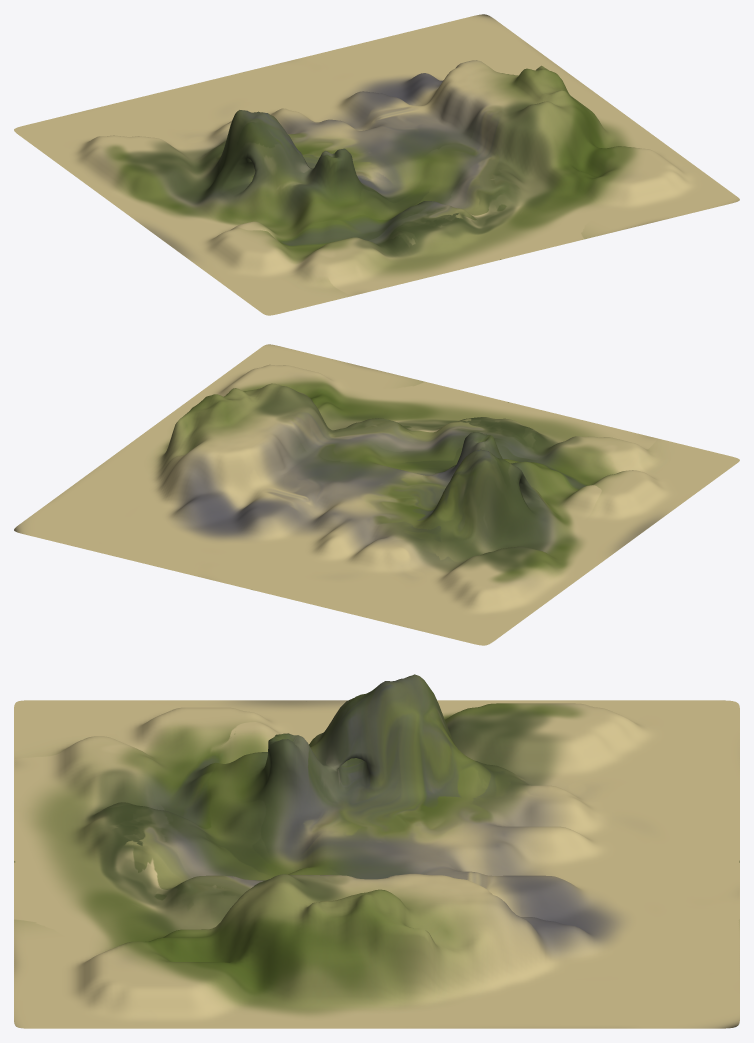
File: pelago.obj
3 renders of one model, top to bottom at view 1: azimuth 30°, elevation 25°; view 2: azimuth 150°, elevation 25°; view 3: azimuth 270°, elevation 25°, orthographic. The views are drawn at different scales.
Parts seen in each view (by area): view 1: pelago; view 2: pelago; view 3: pelago.
Boxes of the visible parts, x1,y1,x2,y2 form: pelago: (14, 14, 739, 315); pelago: (14, 344, 739, 645); pelago: (14, 674, 739, 1028).
Bounding box in the file's own units: 2215 × 333 × 2070.
